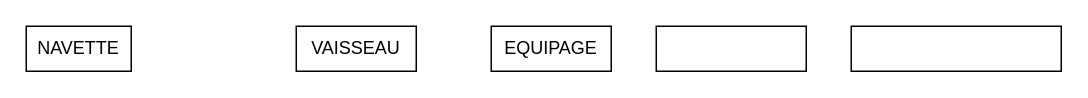
Image size: 1088x98. Some labels were removed from this diagram. The centre of each missing label's shape, as x and y in pixels:
"COMPTE COMMERCANT" goes at [955,48].
"SPATIONAUTE" goes at [730,48].
